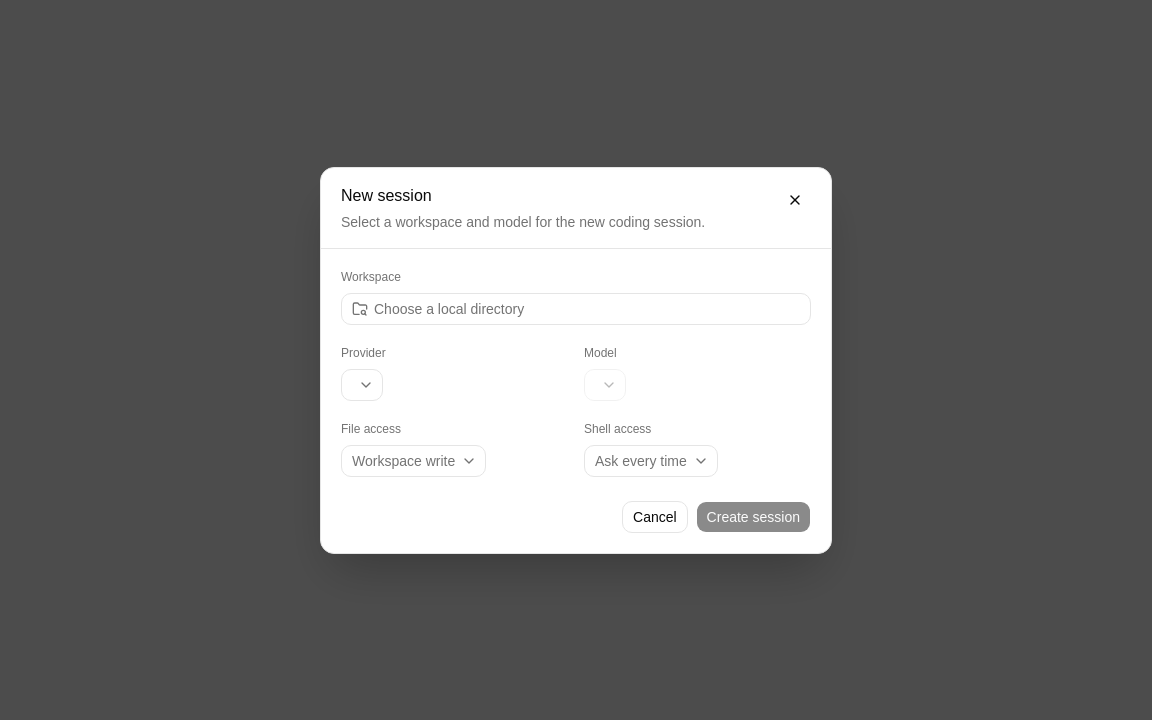
Test: CreateSessionDialog › opens the directory picker without submitting the form
Click the button named "Workspace" at (449, 308), box [341,292,811,324]
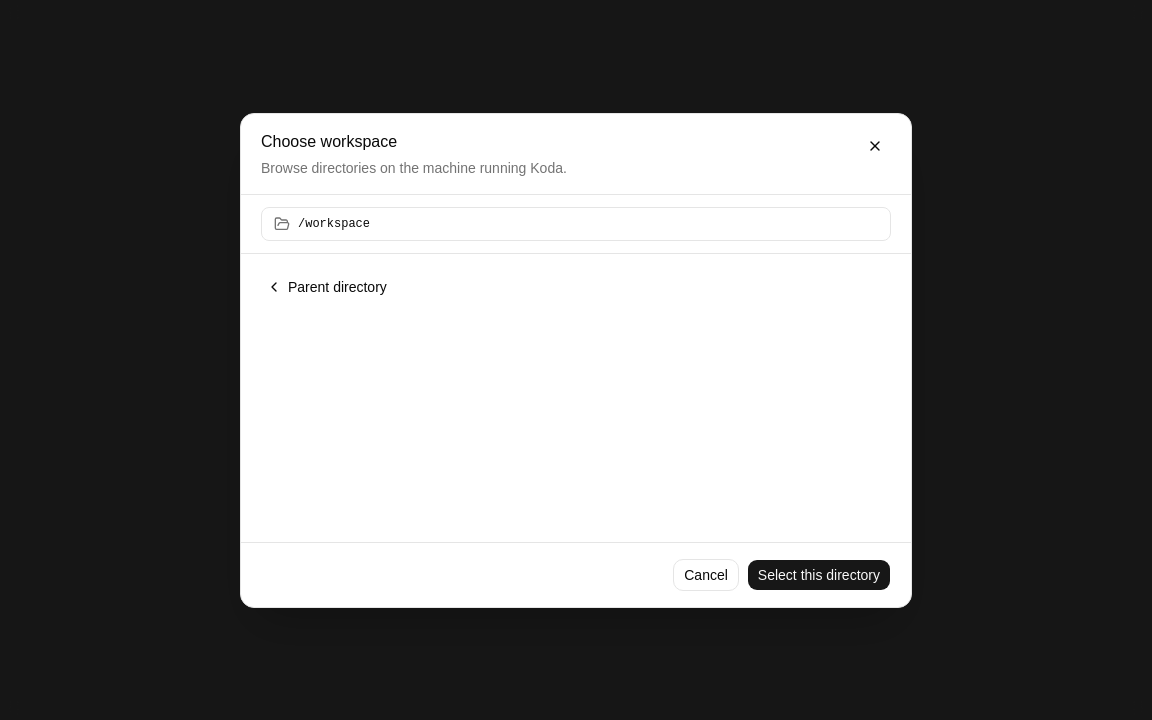
Now the heading "Choose workspace" is shown, box [261,132,397,150]
Click the button "Select this directory" at (819, 574), box [747,558,891,590]
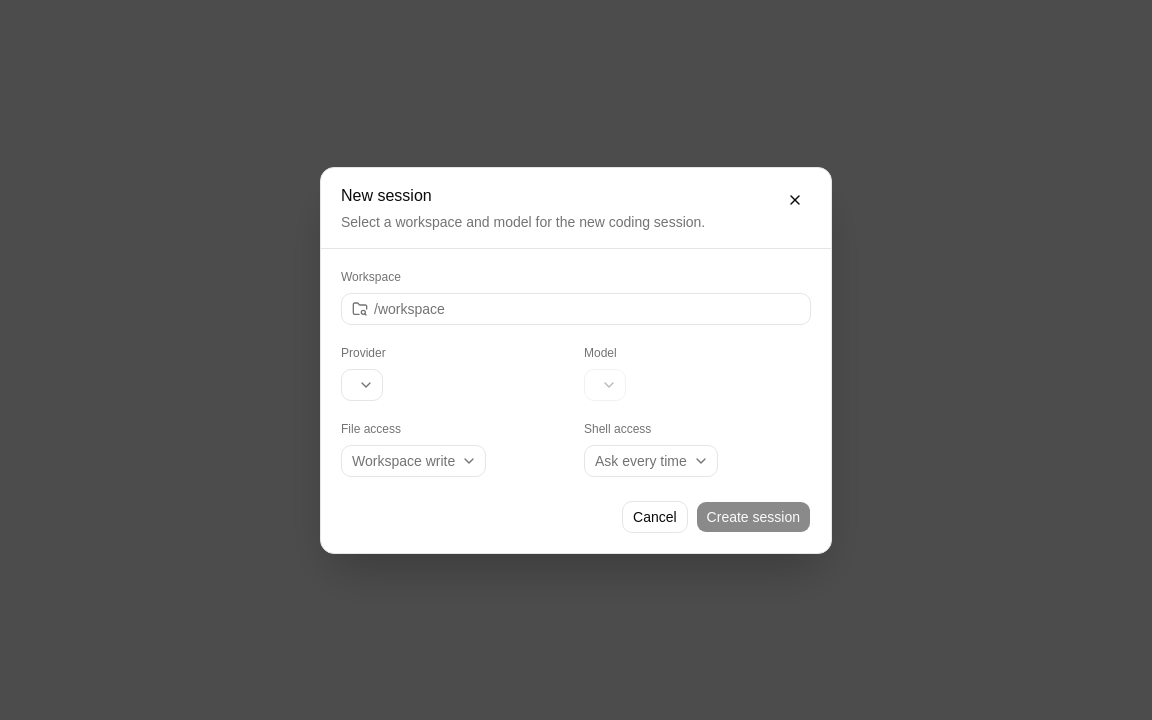
Now the text "/workspace" is shown, box [374,298,445,318]
